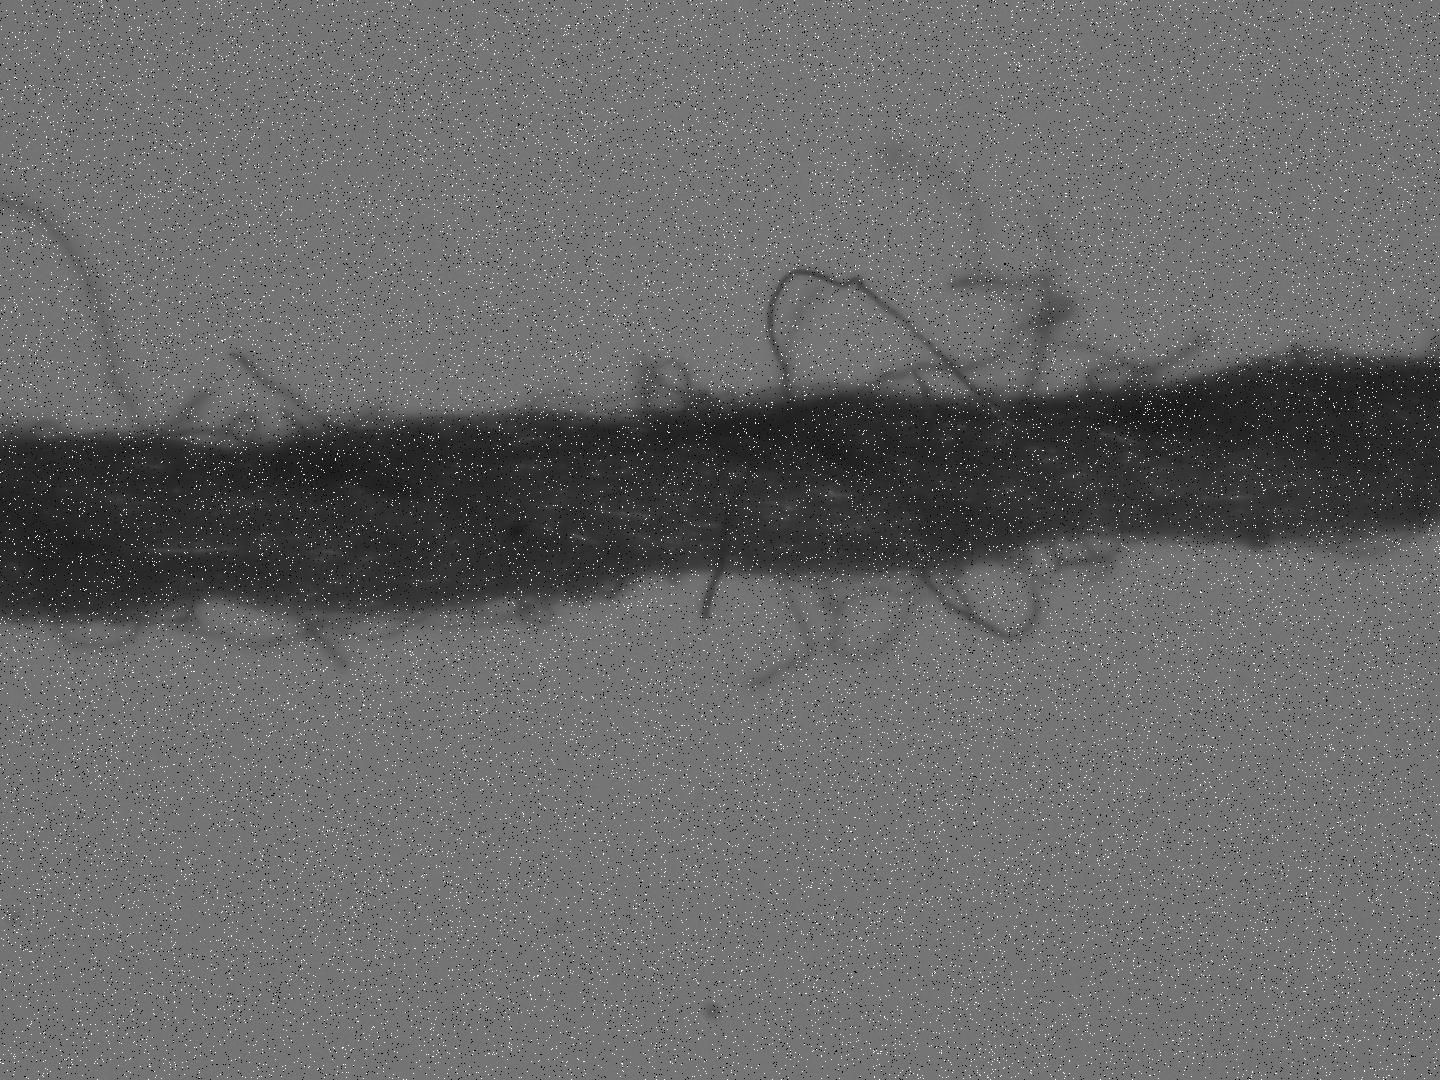loop_fiber: (53, 573, 639, 664), (857, 265, 1209, 410), (762, 265, 1005, 410), (803, 542, 1051, 665), (523, 355, 734, 419), (133, 386, 273, 448), (1050, 524, 1140, 576), (12, 419, 65, 446)
protruding_fiber: (1, 191, 147, 439), (228, 348, 349, 428), (743, 569, 815, 690), (695, 565, 731, 622)
